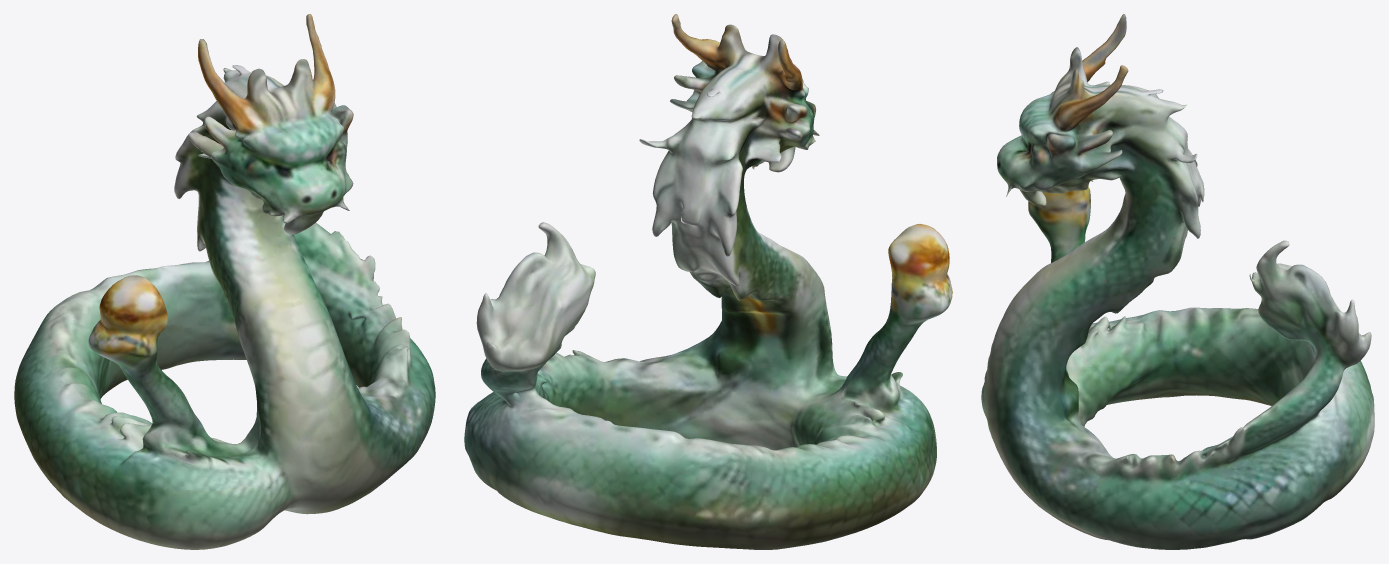
File: jade_serpent.glb
The picture shows the model from 3 angles, left to right: view 1: azimuth 30°, elevation 25°; view 2: azimuth 150°, elevation 25°; view 3: azimuth 270°, elevation 25°; orthographic projection. The views are drawn at different scales.
Parts seen in each view (by area): view 1: tripo_node_15aebf52-fd37-443e-a873-b8012617279f; view 2: tripo_node_15aebf52-fd37-443e-a873-b8012617279f; view 3: tripo_node_15aebf52-fd37-443e-a873-b8012617279f.
Part boxes in pixels (bbox=[...]): tripo_node_15aebf52-fd37-443e-a873-b8012617279f: bbox=[14, 14, 435, 549]; tripo_node_15aebf52-fd37-443e-a873-b8012617279f: bbox=[464, 14, 952, 549]; tripo_node_15aebf52-fd37-443e-a873-b8012617279f: bbox=[981, 14, 1374, 549].
Size of the model in its own units: 0.5931 by 0.6893 by 0.5396.
1 material, 1 textured.
